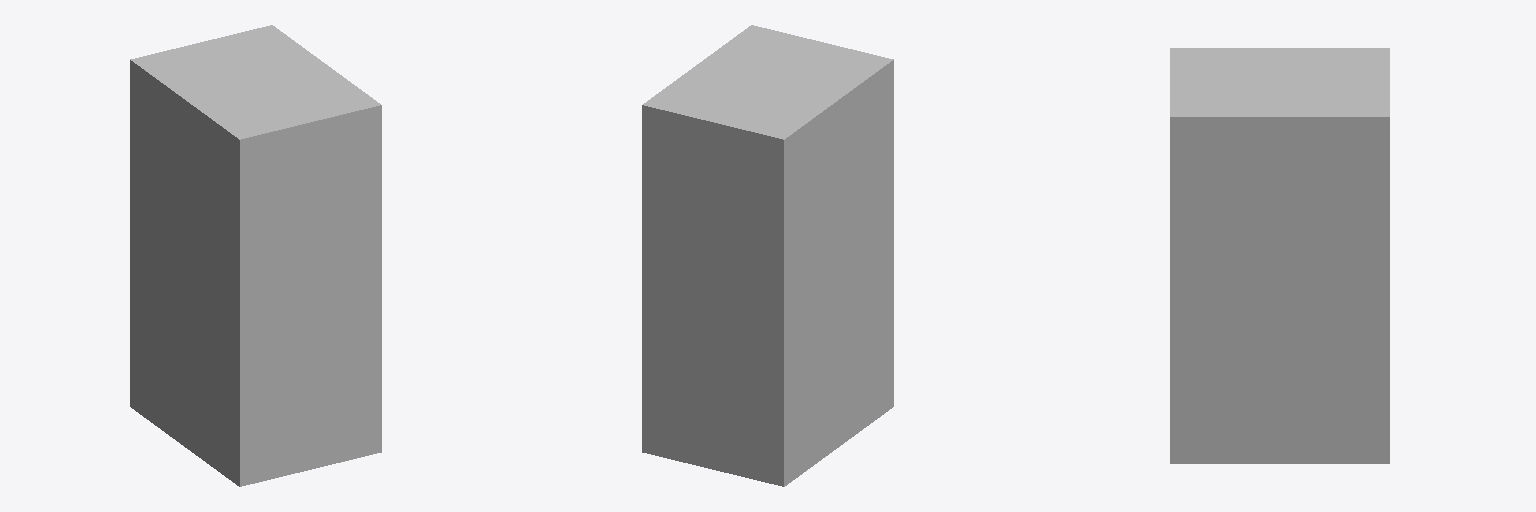
Rendered from pancake_machine.obj.
3 renders of one model, left to right at view 1: azimuth 30°, elevation 25°; view 2: azimuth 150°, elevation 25°; view 3: azimuth 270°, elevation 25°, orthographic.
Visible parts, largest first — view 1: Cube; view 2: Cube; view 3: Cube.
Part boxes in pixels (bbox=[...]): Cube: bbox=[130, 25, 381, 486]; Cube: bbox=[642, 25, 893, 486]; Cube: bbox=[1170, 48, 1389, 463].
Bounding box in the file's own units: 1.5 × 3.51 × 2.